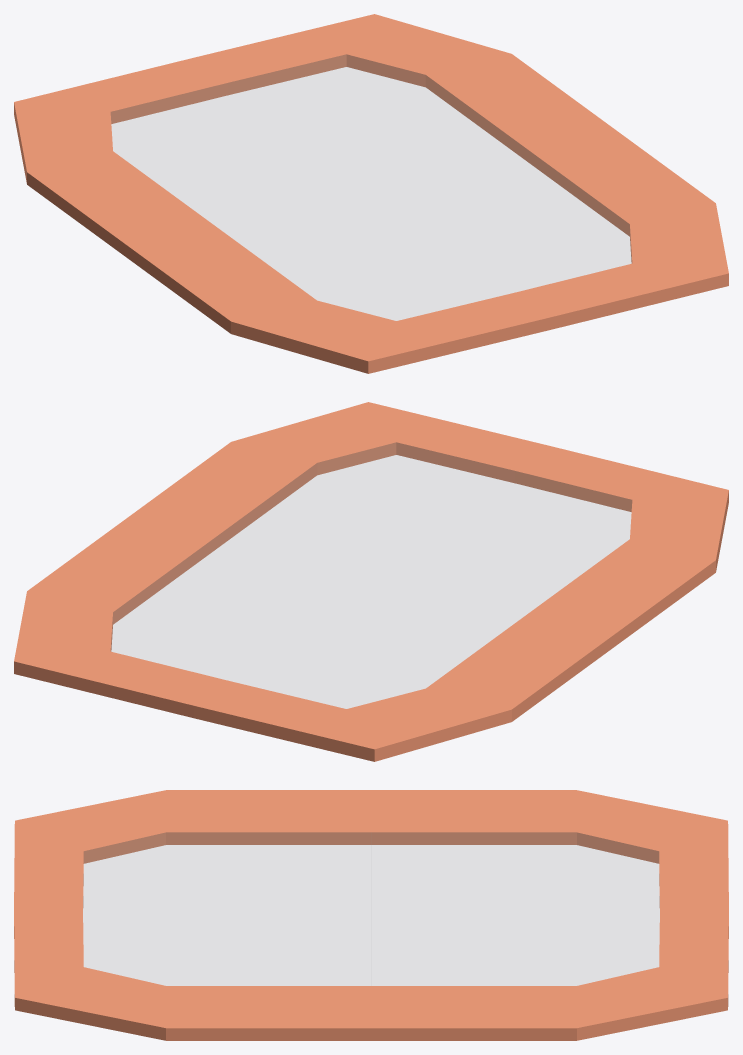
The model's file is bandaid_open.fbx.
3 renders of one model, top to bottom at view 1: azimuth 30°, elevation 25°; view 2: azimuth 150°, elevation 25°; view 3: azimuth 270°, elevation 25°, orthographic.
Visible parts, largest first — view 1: Penso_aberto_BraveHearts; view 2: Penso_aberto_BraveHearts; view 3: Penso_aberto_BraveHearts.
Part boxes in pixels (left/top/right/bottom): Penso_aberto_BraveHearts: left=14, top=14, right=728, bottom=373; Penso_aberto_BraveHearts: left=14, top=402, right=728, bottom=761; Penso_aberto_BraveHearts: left=14, top=790, right=728, bottom=1040.
Bounding box in the file's own units: 16.82 × 0.4164 × 21.35.
